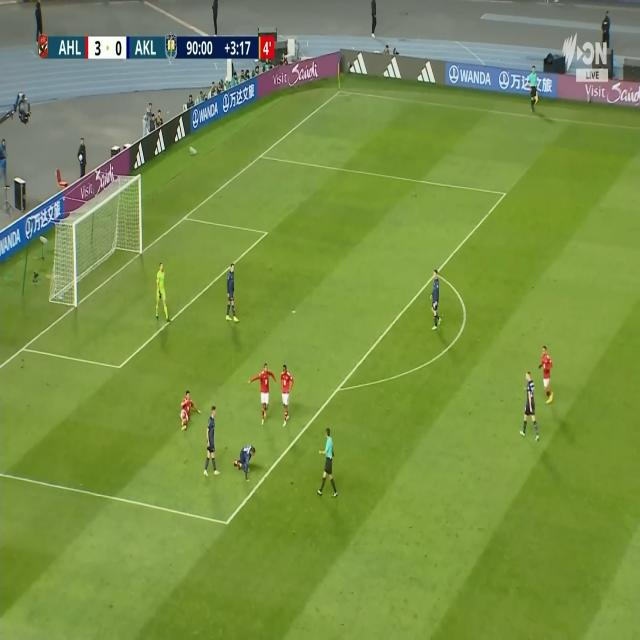Keeper: (154, 260, 173, 326)
Player: (519, 366, 540, 448), (248, 365, 276, 420), (223, 262, 242, 328), (427, 268, 444, 336), (538, 344, 556, 404), (280, 366, 295, 430), (233, 442, 255, 482), (179, 392, 201, 430), (207, 405, 218, 478)
Ref: (318, 423, 339, 502), (526, 64, 542, 114)
